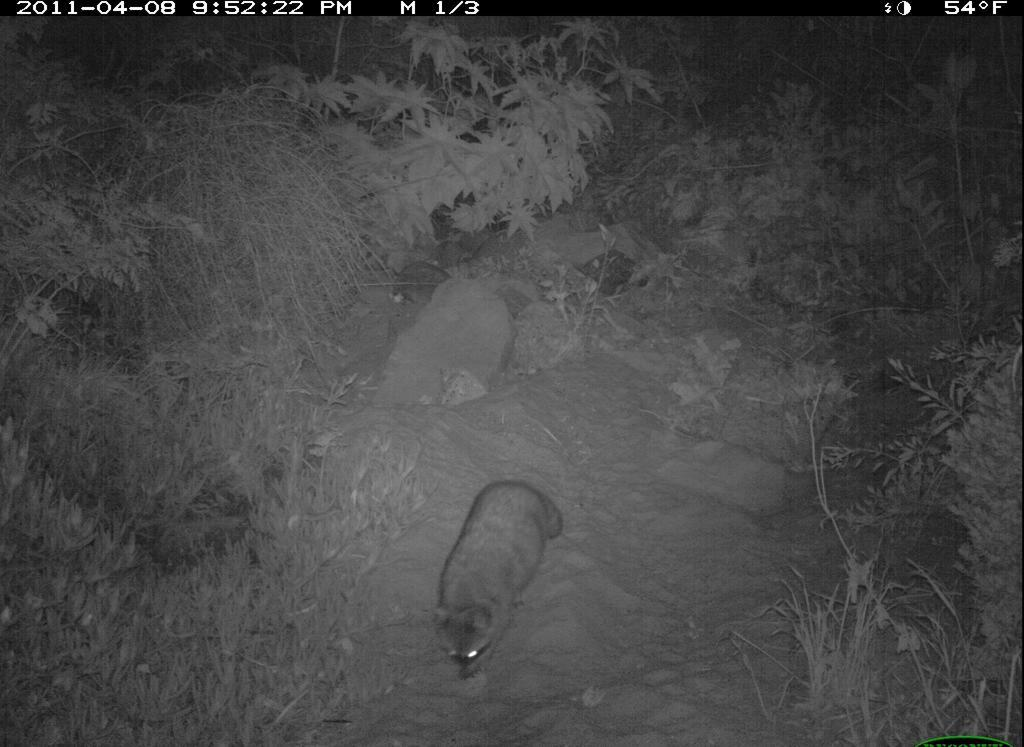raccoon: (420, 479, 575, 697)
